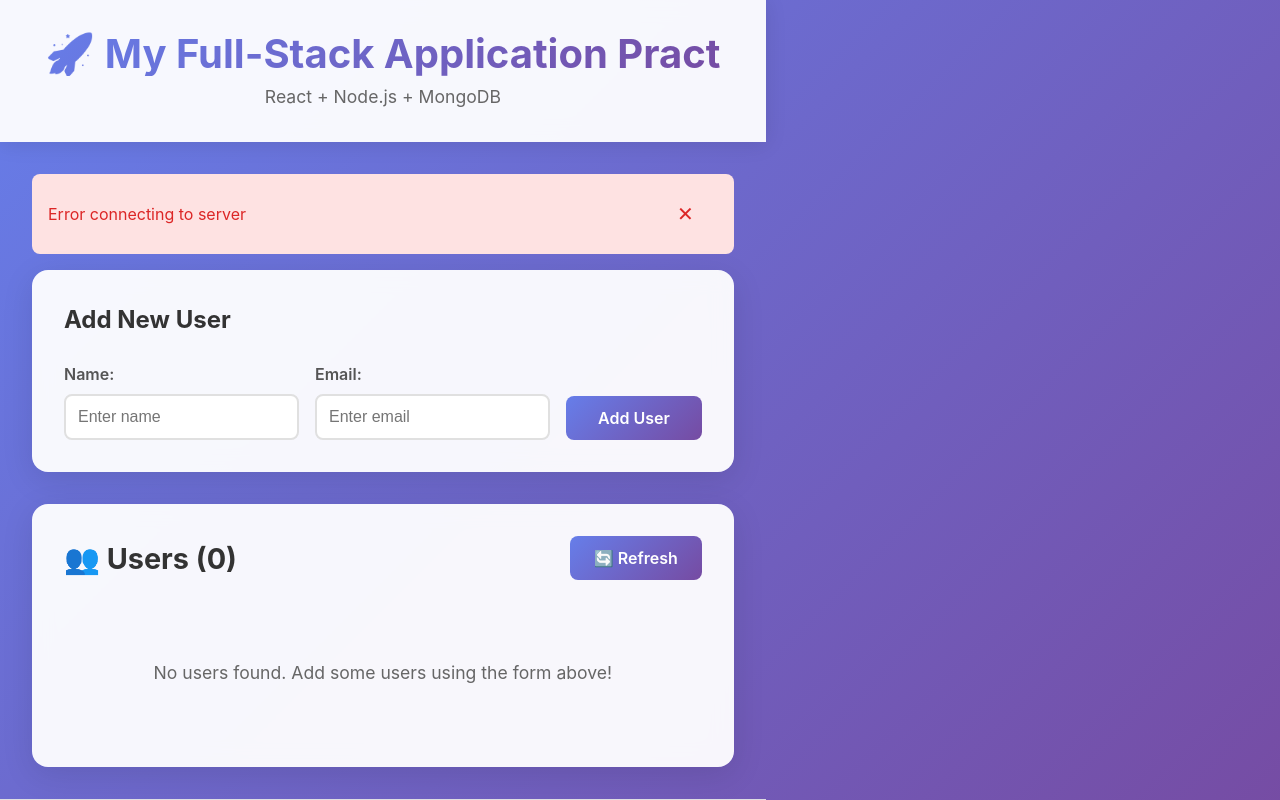
Scenario: App Component › clears error when close button is clicked
The width and height of the screenshot is (1280, 800).
Check: the element with test id "error-banner" is shown, box [32, 174, 734, 254]
# Click the close button (✕)
Click the button "✕": (685, 214) [653, 190, 718, 238]
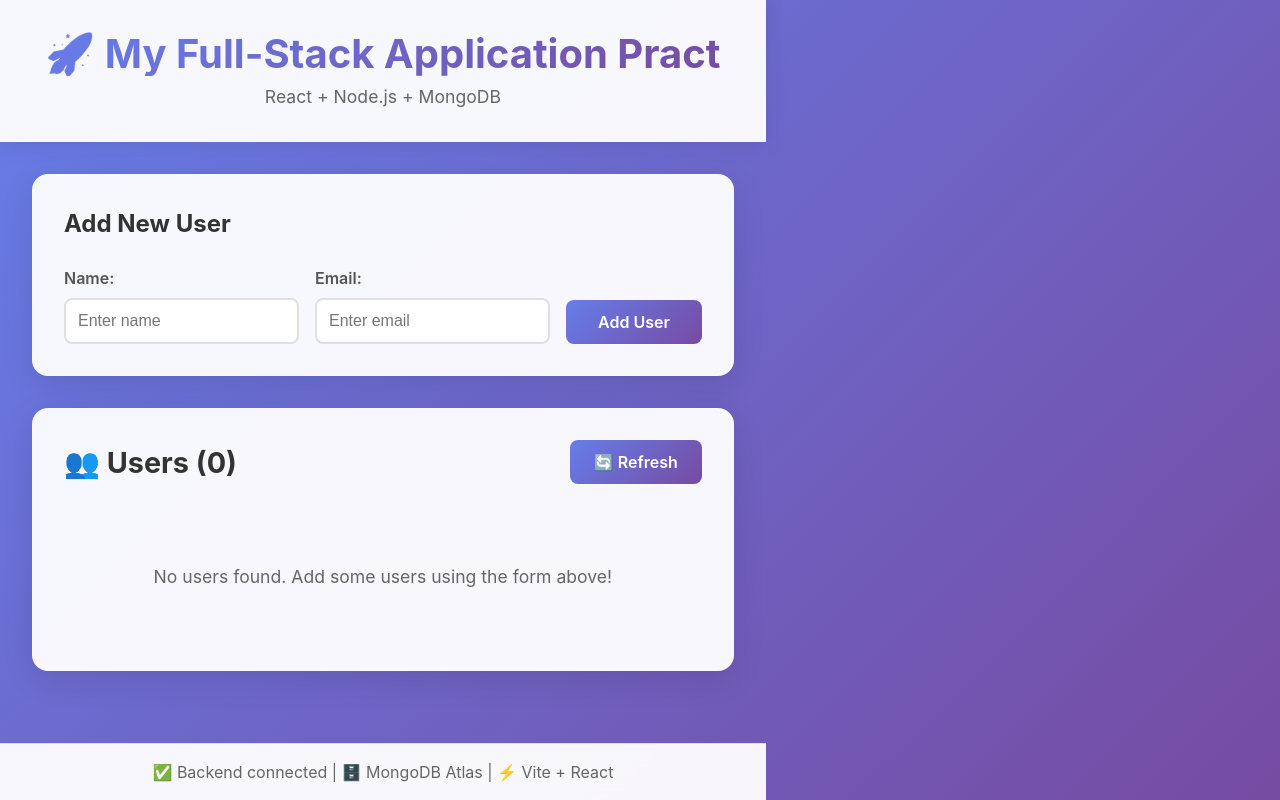
Check: the element with test id "error-banner" is gone
